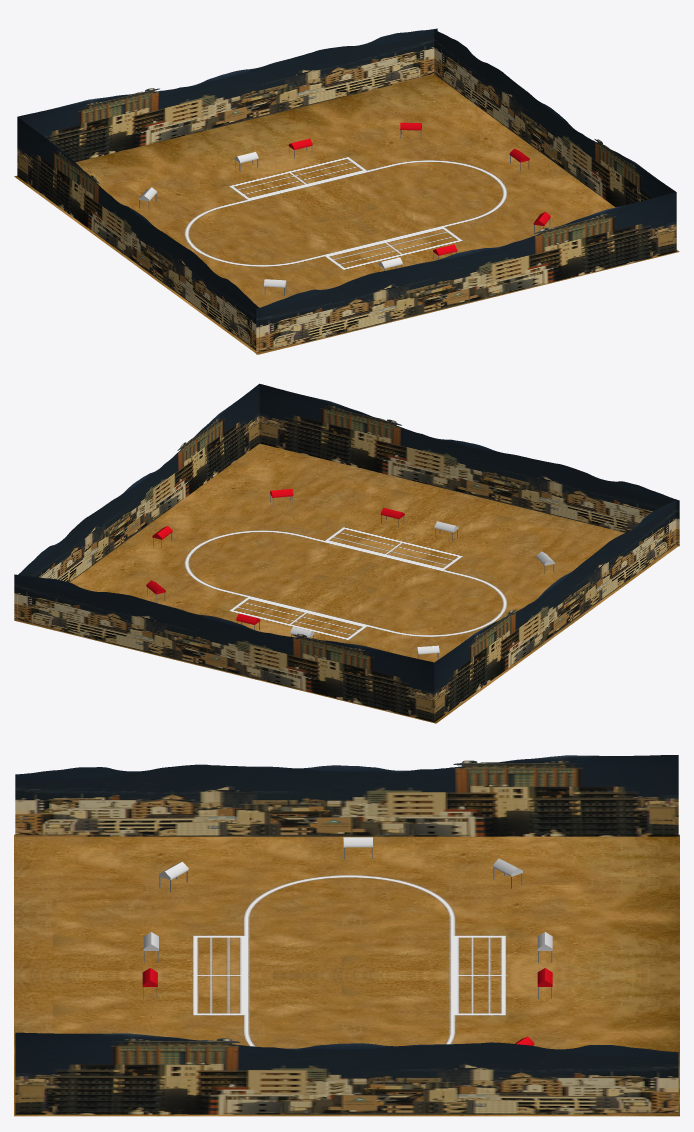
The model's file is aaa.fbx.
The picture shows the model from 3 angles, top to bottom: view 1: azimuth 30°, elevation 25°; view 2: azimuth 150°, elevation 25°; view 3: azimuth 270°, elevation 25°; orthographic projection. The views are drawn at different scales.
Visible parts, largest first — view 1: suna, polymsh2; view 2: polymsh2, suna; view 3: suna, polymsh2.
Part boxes in pixels (x1=…): suna: x1=14, y1=75, x2=679, y2=354; polymsh2: x1=17, y1=28, x2=676, y2=354; polymsh2: x1=14, y1=383, x2=679, y2=722; suna: x1=14, y1=443, x2=678, y2=723; suna: x1=14, y1=834, x2=679, y2=1116; polymsh2: x1=15, y1=755, x2=678, y2=1114.
Size of the model in its own units: 1871 by 255 by 1865.
Materials: 2 (2 with a texture image).
